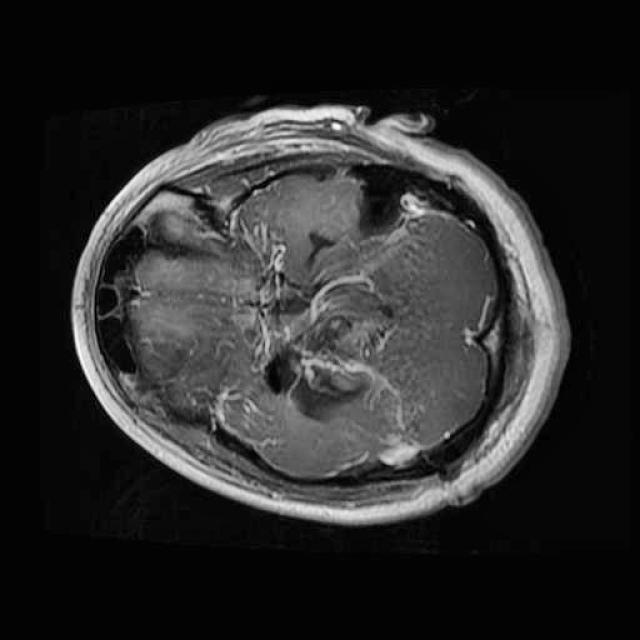Non-Tumor: (268, 256, 416, 442)
